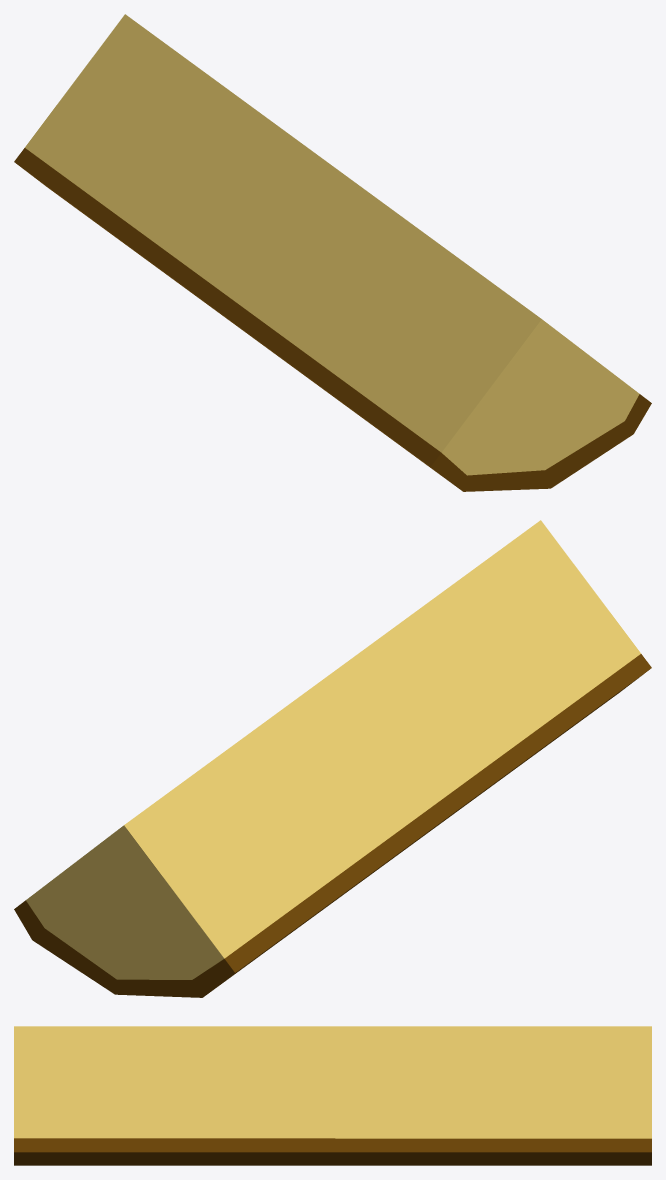
Rendered from wood02.fbx.
3 renders of one model, top to bottom at view 1: azimuth 30°, elevation 25°; view 2: azimuth 150°, elevation 25°; view 3: azimuth 270°, elevation 25°, orthographic. The views are drawn at different scales.
Visible parts, largest first — view 1: Cylinder.007; view 2: Cylinder.007; view 3: Cylinder.007.
Part boxes in pixels (box(x1,y1,x2,y2)): Cylinder.007: box(14, 14, 651, 491); Cylinder.007: box(14, 520, 651, 997); Cylinder.007: box(14, 1026, 651, 1165).
Size of the model in its own units: 0.2528 by 0.1875 by 0.8249.
